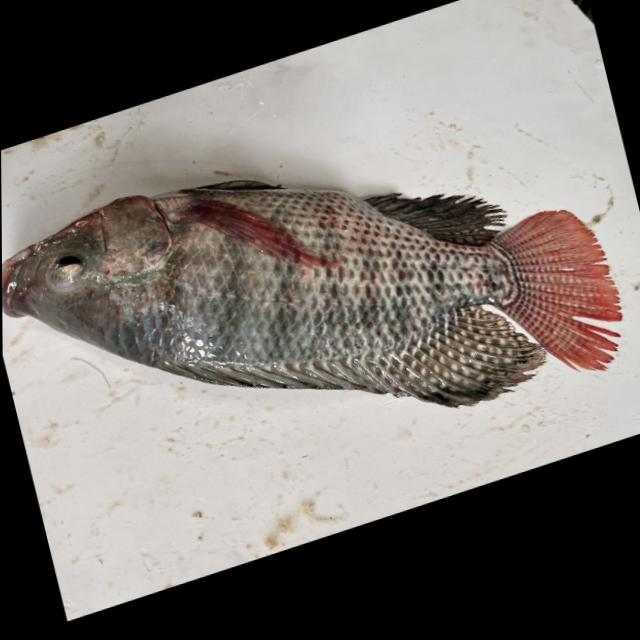Tilapia: (1, 39, 637, 553)
